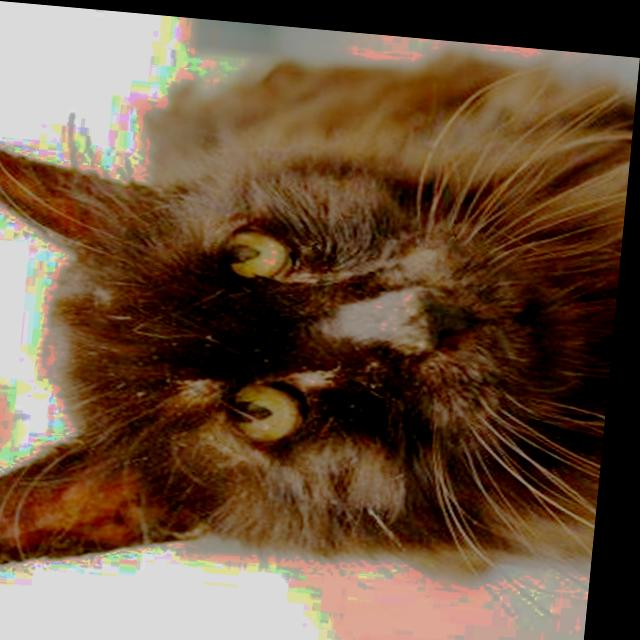ringworm: (0, 445, 145, 566), (179, 378, 243, 405)
